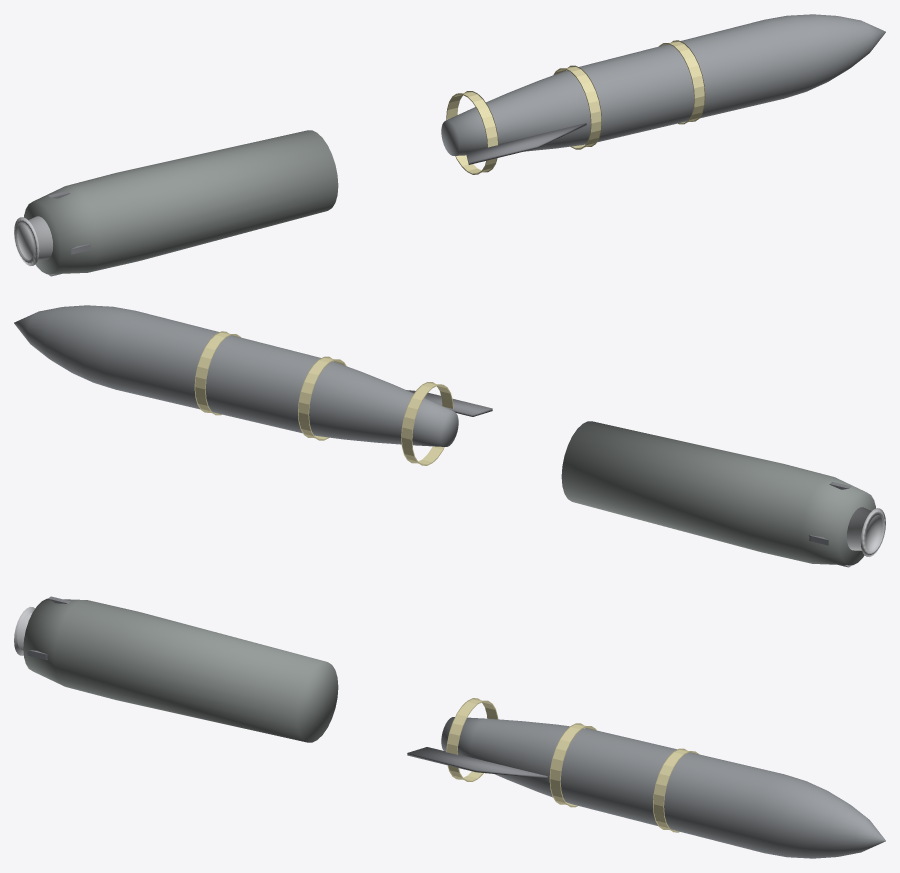
File: RU_ASW_Otvet_LOD1.fbx
3 views of the same model, one above another, from view 1: azimuth 30°, elevation 25°; view 2: azimuth 150°, elevation 25°; view 3: azimuth 330°, elevation 25° (orthographic).
Visible parts, largest first — view 1: WPN_RU_ASW_Otvet_LOD1_Body, WPN_RU_ASW_Otvet_LOD1_Tail, WPN_RU_ASW_Otvet_LOD1_Marking, WPN_RU_ASW_Otvet_LOD1_Propulsor, WPN_RU_ASW_Otvet_LOD1_Detail; view 2: WPN_RU_ASW_Otvet_LOD1_Body, WPN_RU_ASW_Otvet_LOD1_Tail, WPN_RU_ASW_Otvet_LOD1_Marking, WPN_RU_ASW_Otvet_LOD1_Propulsor, WPN_RU_ASW_Otvet_LOD1_Detail; view 3: WPN_RU_ASW_Otvet_LOD1_Body, WPN_RU_ASW_Otvet_LOD1_Tail, WPN_RU_ASW_Otvet_LOD1_Marking, WPN_RU_ASW_Otvet_LOD1_Detail.
Part boxes in pixels (x1,y1,x2,y2): WPN_RU_ASW_Otvet_LOD1_Body: [441, 14, 885, 155]; WPN_RU_ASW_Otvet_LOD1_Tail: [24, 130, 338, 274]; WPN_RU_ASW_Otvet_LOD1_Marking: [446, 40, 705, 174]; WPN_RU_ASW_Otvet_LOD1_Propulsor: [14, 216, 52, 266]; WPN_RU_ASW_Otvet_LOD1_Detail: [466, 123, 586, 164]; WPN_RU_ASW_Otvet_LOD1_Body: [14, 305, 458, 446]; WPN_RU_ASW_Otvet_LOD1_Tail: [561, 421, 875, 565]; WPN_RU_ASW_Otvet_LOD1_Marking: [194, 331, 453, 465]; WPN_RU_ASW_Otvet_LOD1_Propulsor: [847, 507, 885, 557]; WPN_RU_ASW_Otvet_LOD1_Detail: [406, 390, 492, 416]; WPN_RU_ASW_Otvet_LOD1_Body: [441, 717, 885, 858]; WPN_RU_ASW_Otvet_LOD1_Tail: [23, 598, 338, 742]; WPN_RU_ASW_Otvet_LOD1_Marking: [446, 698, 698, 832]; WPN_RU_ASW_Otvet_LOD1_Detail: [407, 747, 547, 778].
Size of the model in its own units: 6.5 by 0.7009 by 0.597.
